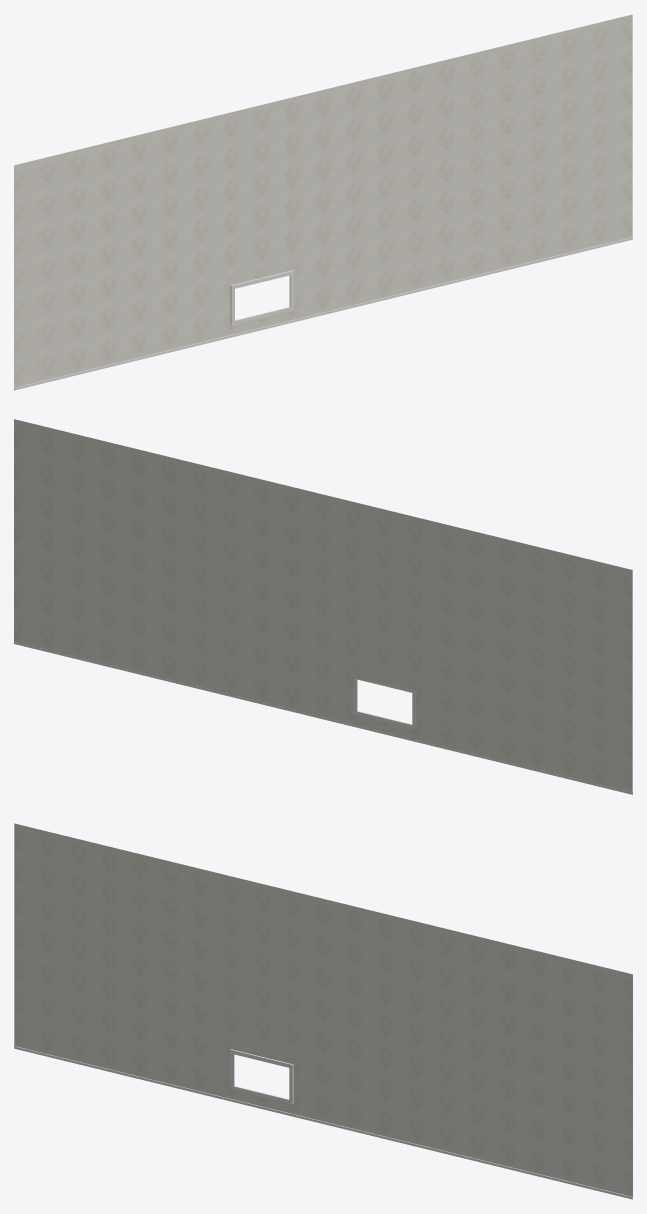
Rendered from wm_40_f4aaeb8d.gltf.
3 renders of one model, top to bottom at view 1: azimuth 30°, elevation 25°; view 2: azimuth 150°, elevation 25°; view 3: azimuth 330°, elevation 25°, orthographic.
Visible parts, largest first — view 1: jx_wm_40_f4aaeb8d; view 2: jx_wm_40_f4aaeb8d; view 3: jx_wm_40_f4aaeb8d.
Part boxes in pixels (x1,y1,x2,y2): jx_wm_40_f4aaeb8d: (14, 14, 632, 390); jx_wm_40_f4aaeb8d: (14, 419, 632, 794); jx_wm_40_f4aaeb8d: (14, 823, 632, 1199).
Size of the model in its own units: 40.3 by 14 by 0.086.
Materials: 2 (2 with a texture image).
